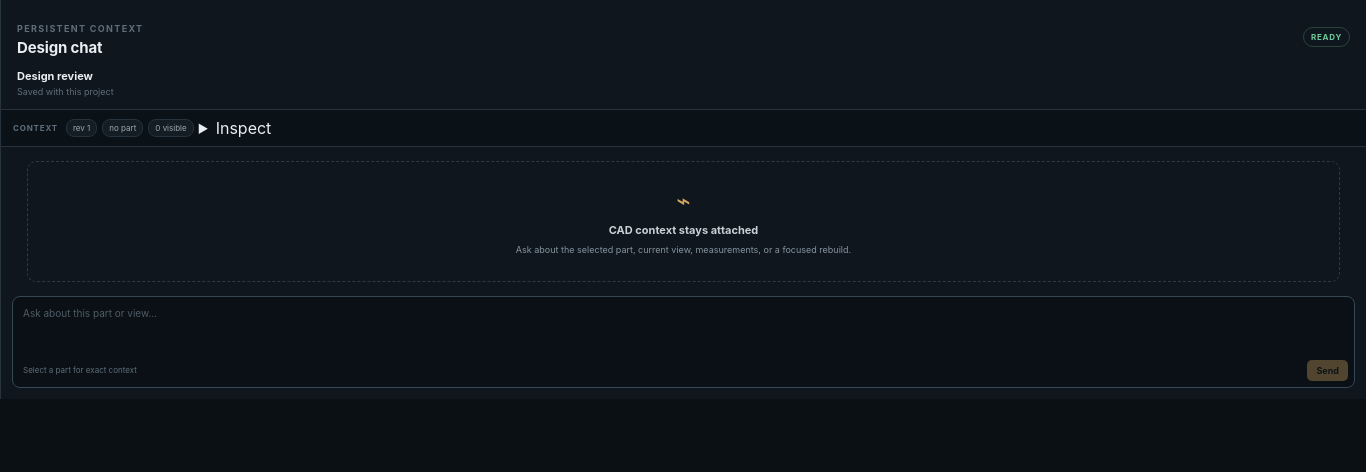
Test: ChatDock feedback contract › streams bounded activity, content, evidence, and a terminal result into one row
In the text box with placeholder "Ask about this part or view…": (684, 326) [13,297,1354,355], type "Inspect"
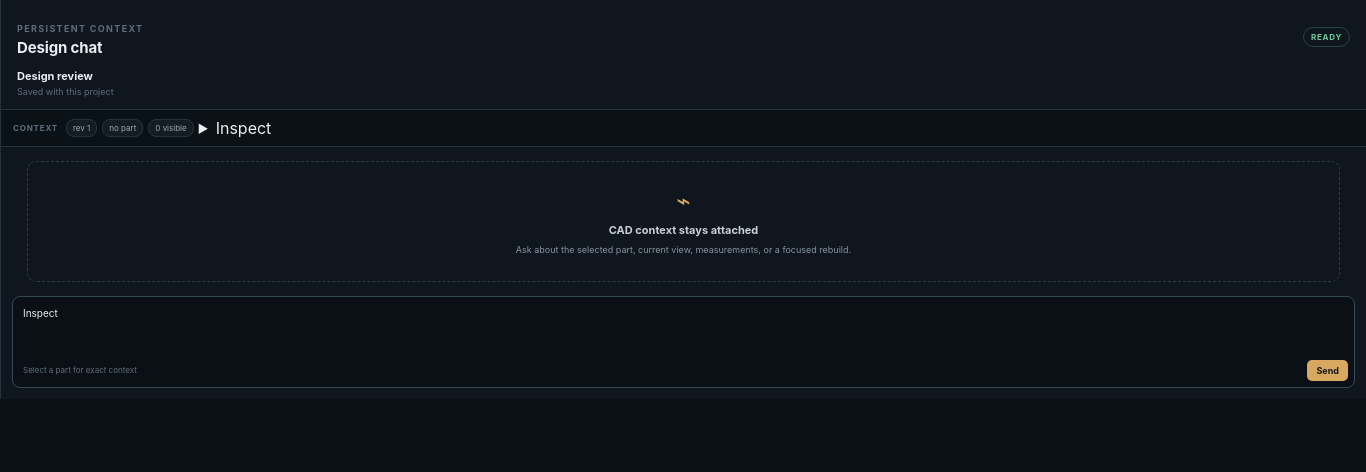
Click the button "Send": (1328, 370) [1308,360,1348,381]
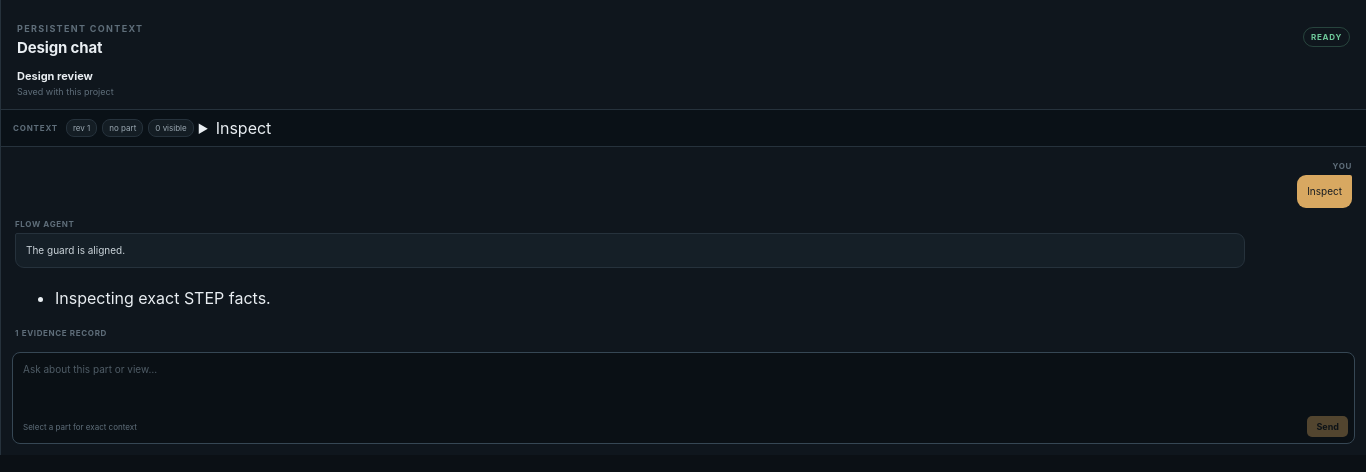
Expected: the text "The guard is aligned." is shown, [15,233,1245,268]
Expected: the list item "Inspecting exact STEP facts." is shown, [55,288,271,308]
Expected: the text "1 evidence record" is shown, [15,328,107,338]
